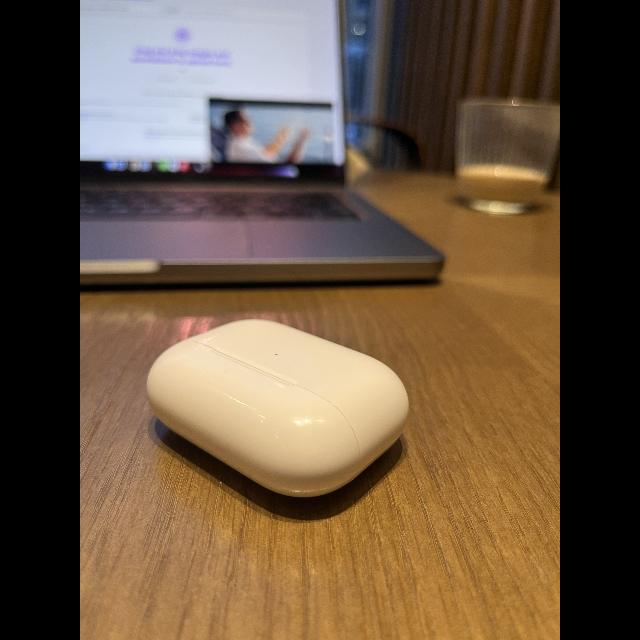AirPods Pro: (140, 311, 420, 519)
